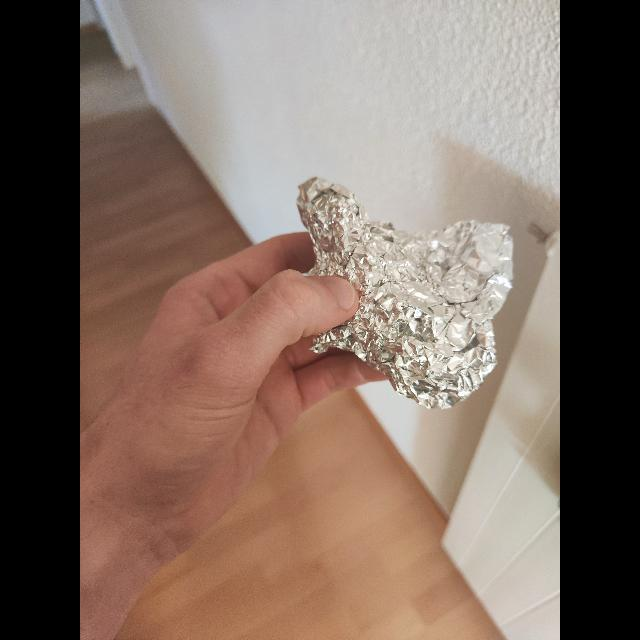Metal: (288, 168, 520, 414)
